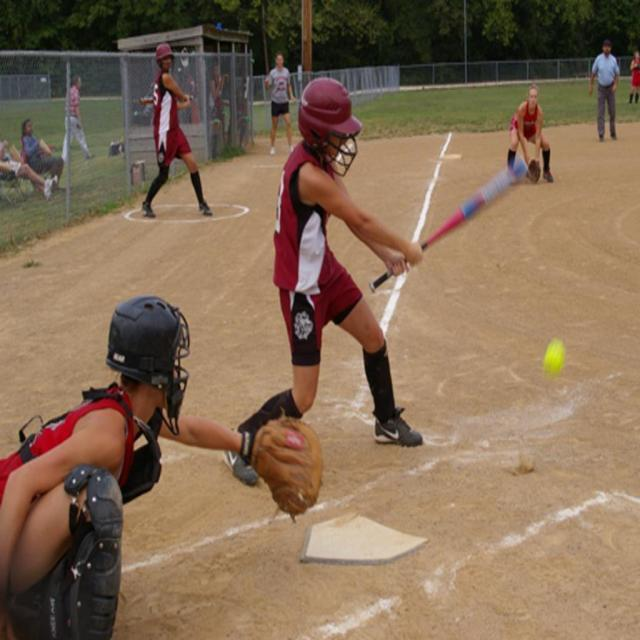bat: (418, 157, 528, 251)
